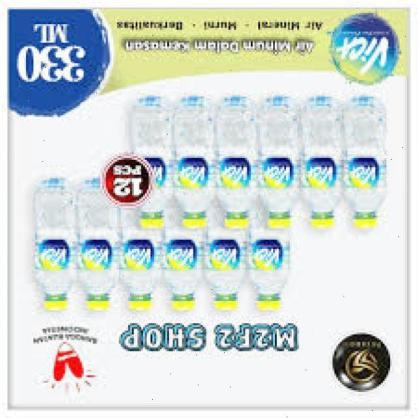bottle: (293, 90, 353, 235), (246, 82, 302, 234), (19, 178, 75, 309), (120, 99, 174, 232), (338, 99, 391, 228), (66, 180, 116, 310), (109, 204, 162, 308), (168, 109, 212, 230), (216, 103, 255, 238), (241, 222, 290, 312), (195, 230, 247, 313), (162, 222, 202, 308)
cap: (306, 211, 339, 234), (211, 292, 242, 314), (264, 211, 296, 231), (220, 213, 255, 230), (139, 212, 168, 231), (40, 295, 73, 310), (124, 293, 152, 309), (258, 296, 284, 313), (85, 294, 112, 310), (180, 212, 204, 230), (352, 213, 378, 228), (168, 294, 190, 311)
label: (336, 155, 386, 189), (249, 239, 288, 273), (202, 238, 244, 269), (296, 158, 340, 186), (118, 241, 156, 270), (78, 240, 111, 272), (164, 242, 198, 270), (215, 164, 251, 189), (260, 160, 297, 184), (180, 162, 208, 186)
